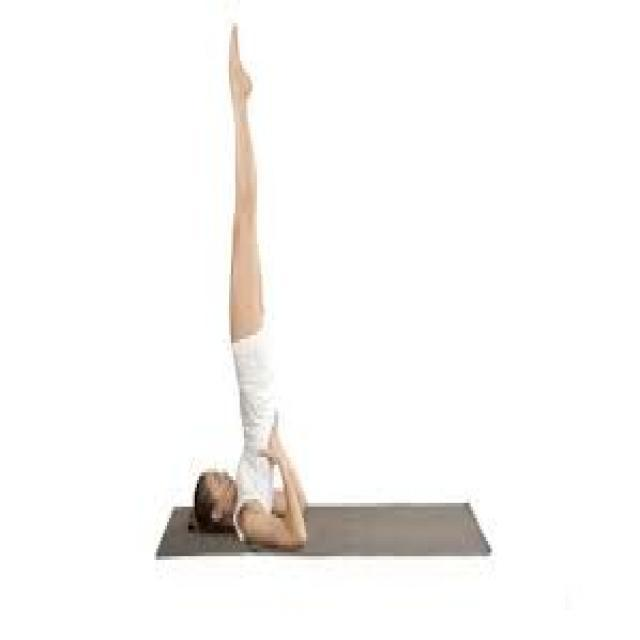yoga-pose shoulderstand: (192, 21, 310, 544)
